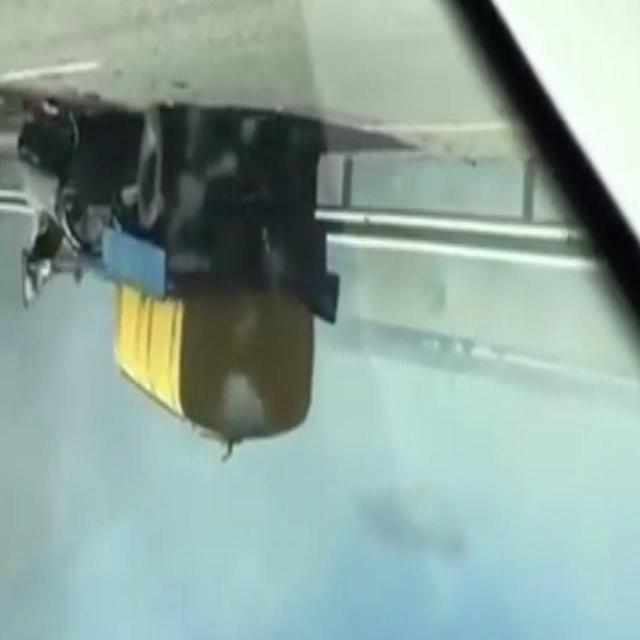severe: (20, 94, 338, 470)
